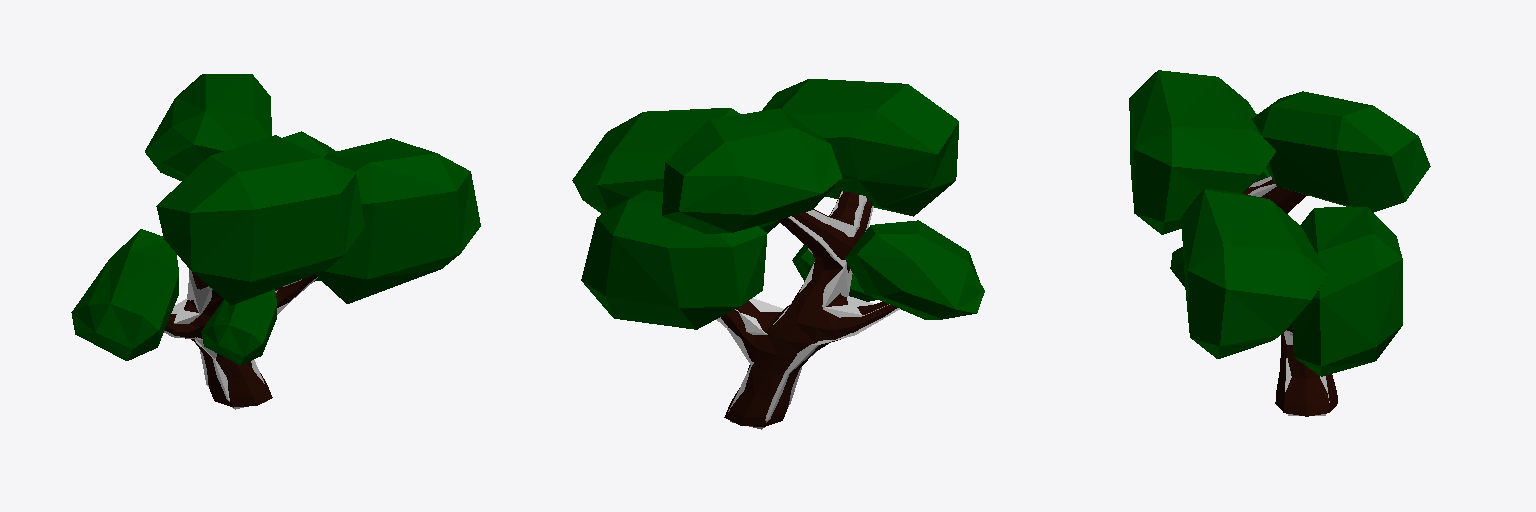
The model's file is tree_1.obj.
3 renders of one model, left to right at view 1: azimuth 30°, elevation 25°; view 2: azimuth 150°, elevation 25°; view 3: azimuth 270°, elevation 25°, orthographic.
Parts seen in each view (by area): view 1: Cube.010_Cube.012, Cube.011_Cube.013, COLLISION_Cube.001; view 2: Cube.010_Cube.012, Cube.011_Cube.013, COLLISION_Cube.001; view 3: Cube.010_Cube.012, Cube.011_Cube.013, COLLISION_Cube.001.
Boxes of the visible parts, box(x1,y1,x2,y2) form: Cube.010_Cube.012: box(71, 74, 480, 365); Cube.011_Cube.013: box(165, 272, 316, 407); COLLISION_Cube.001: box(164, 269, 317, 409); Cube.010_Cube.012: box(572, 79, 984, 329); Cube.011_Cube.013: box(721, 191, 897, 426); COLLISION_Cube.001: box(716, 191, 899, 429); Cube.010_Cube.012: box(1129, 70, 1430, 376); Cube.011_Cube.013: box(1243, 179, 1337, 416); COLLISION_Cube.001: box(1248, 176, 1329, 415).
Size of the model in its own units: 12.42 by 9.31 by 8.32.